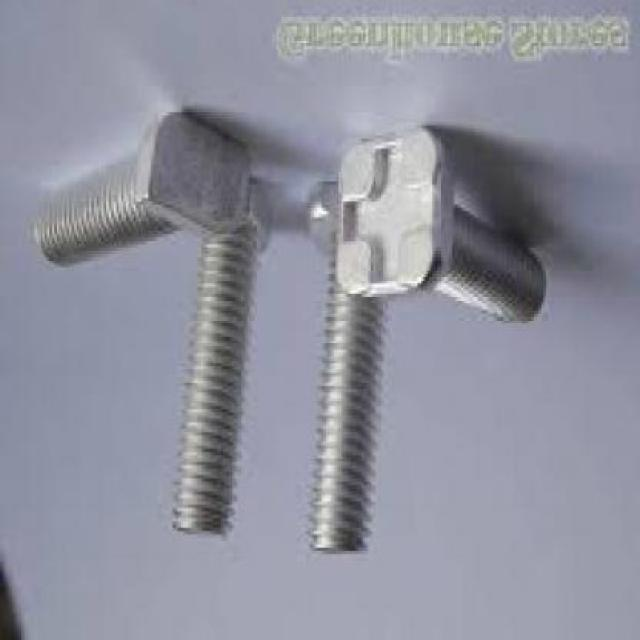METAL: (331, 128, 544, 330), (174, 178, 269, 540), (31, 112, 247, 271), (304, 185, 390, 557)
